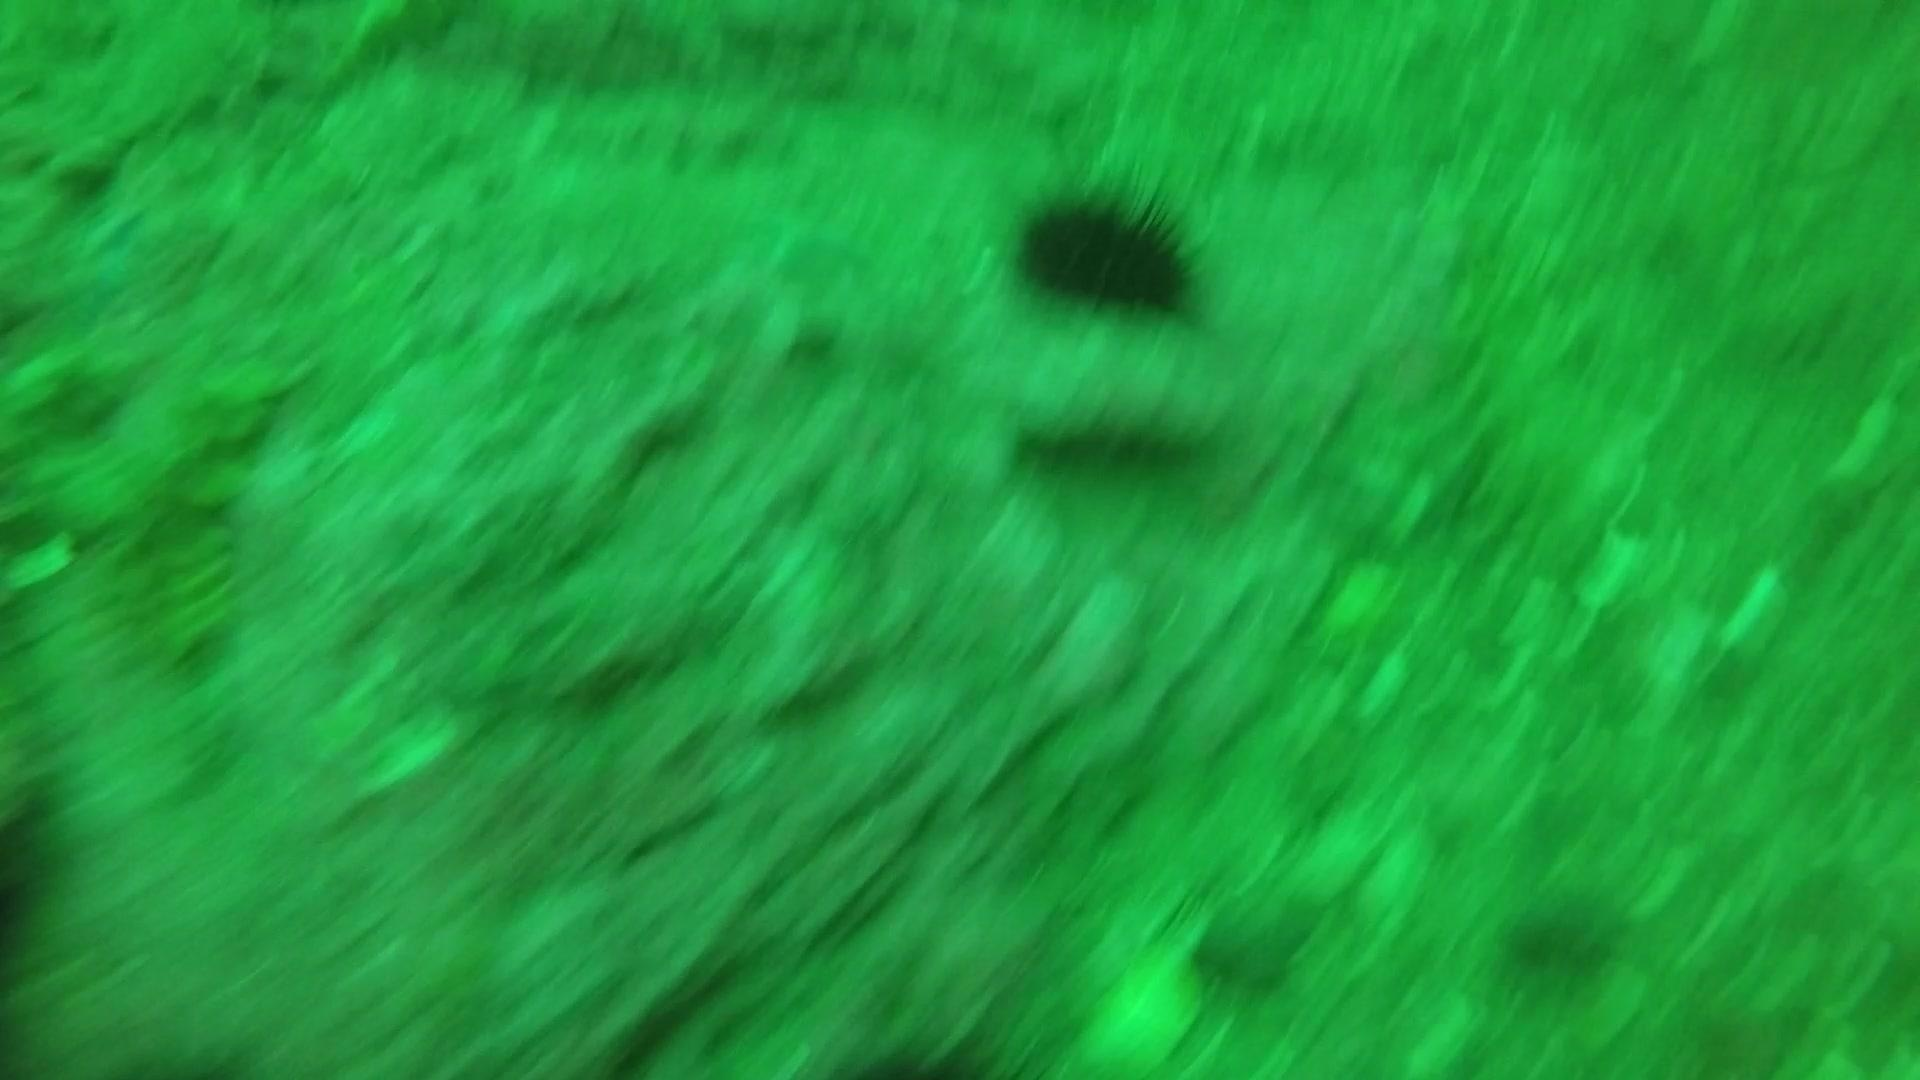echinus: (1005, 177, 1208, 326)
